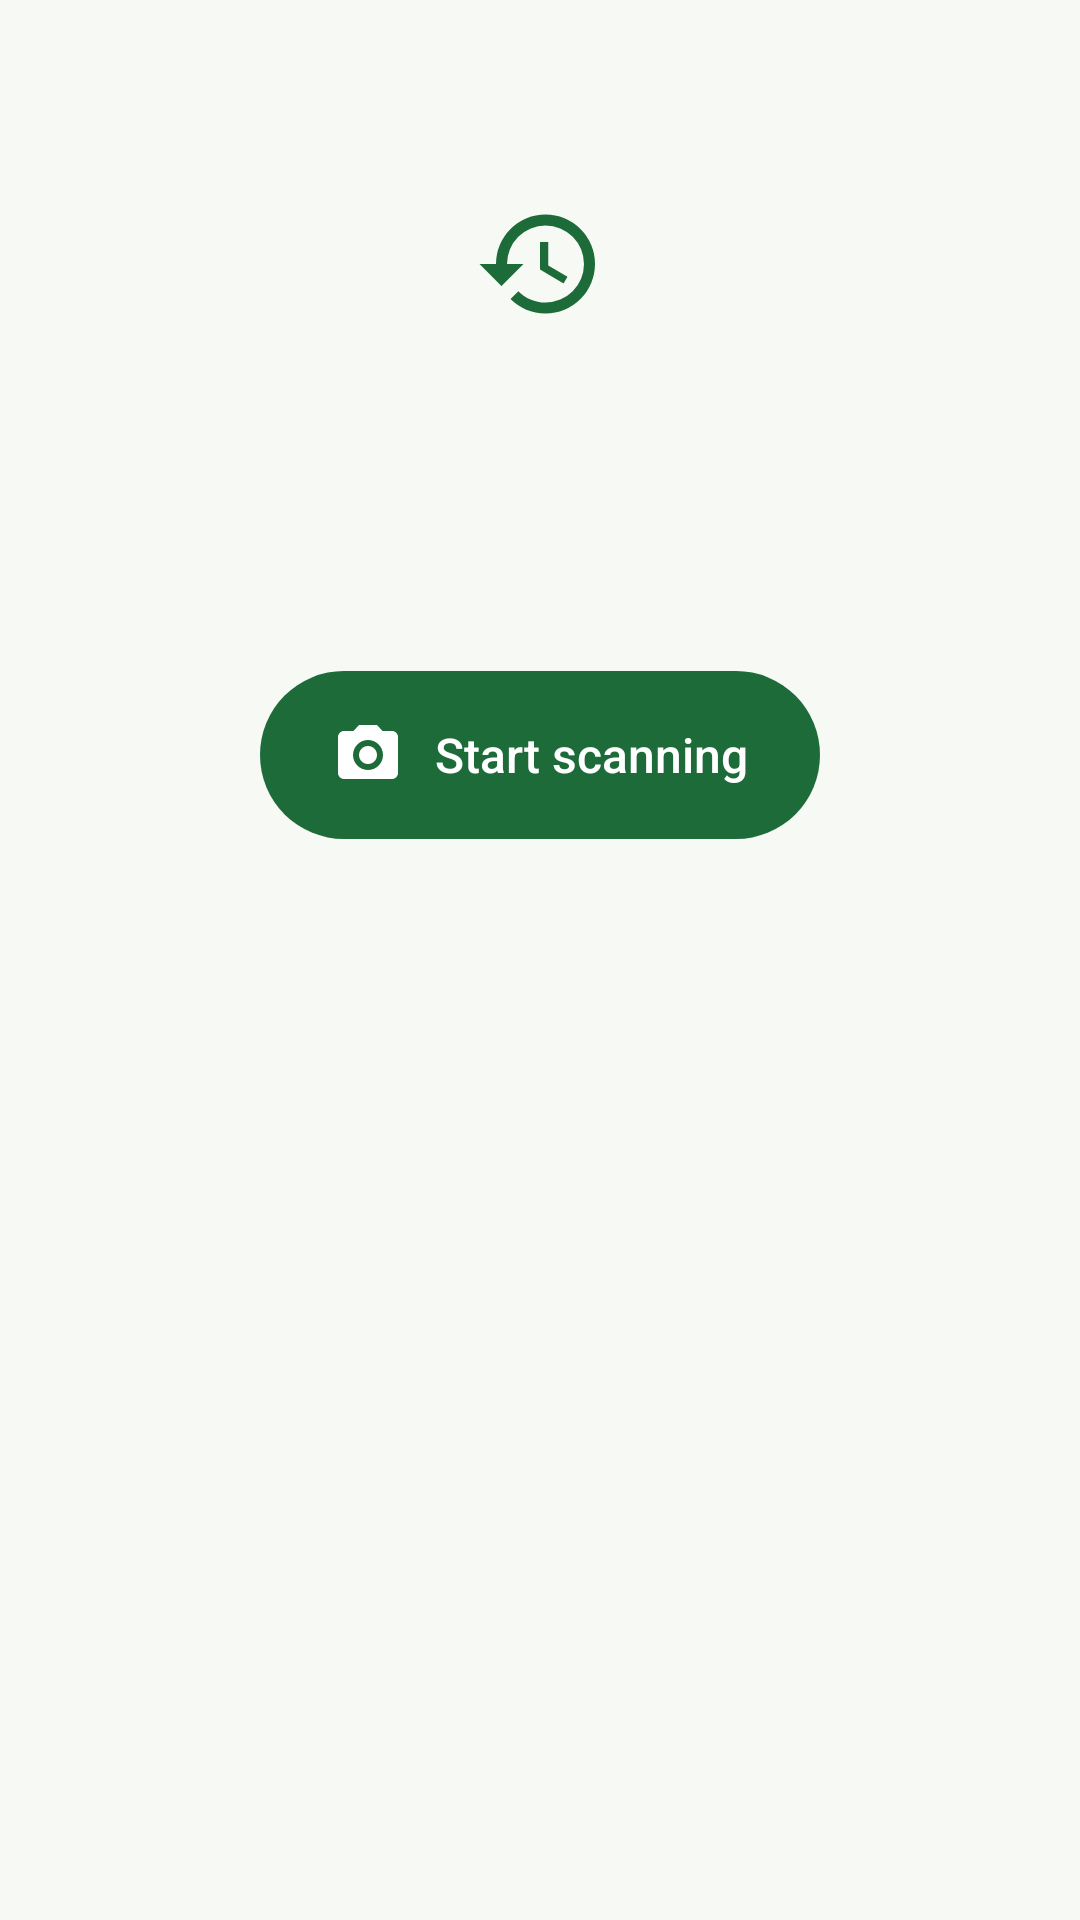

Icons on this 1080×1920 Android screen, each with its box as (x1, y1, x2, y2):
history: (479, 214, 595, 314)
